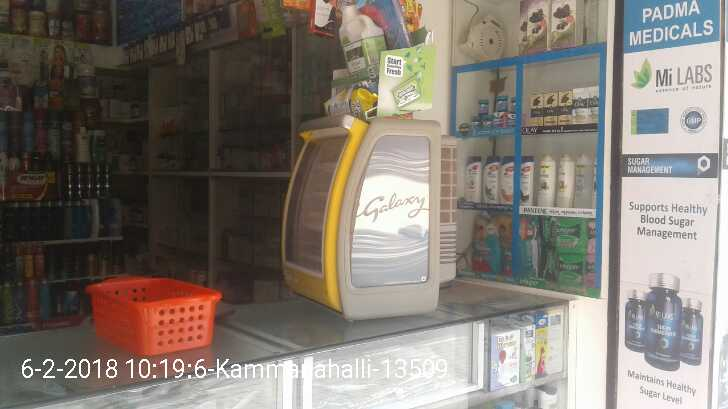beauty: (536, 152, 556, 206), (557, 154, 573, 205), (482, 155, 499, 203), (500, 154, 515, 204), (464, 157, 481, 201), (521, 154, 535, 204), (585, 85, 598, 122), (528, 94, 543, 126), (572, 89, 586, 123), (542, 94, 556, 126), (559, 92, 571, 122)
pharmacy: (471, 212, 501, 275), (542, 216, 584, 254), (546, 250, 586, 287), (494, 93, 509, 114), (477, 98, 490, 117)
